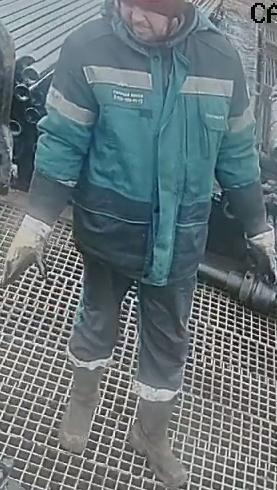gloves: (1, 213, 52, 287), (243, 225, 276, 284)
vest: (71, 25, 241, 284)
